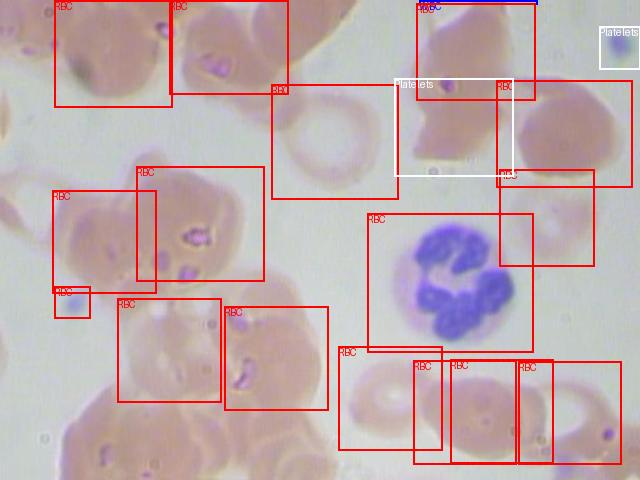Platelets: (394, 78, 513, 176), (599, 26, 640, 69)
RBC: (367, 213, 533, 352), (136, 166, 264, 281), (271, 84, 398, 199), (496, 80, 632, 187), (54, 0, 172, 107), (416, 3, 535, 100), (169, 0, 288, 94), (338, 346, 442, 450), (224, 306, 328, 410), (117, 298, 221, 402), (413, 360, 516, 464), (450, 359, 553, 463), (52, 190, 156, 293), (518, 361, 621, 464), (499, 169, 594, 266), (54, 286, 90, 318)
WBC: (419, 0, 537, 4)
